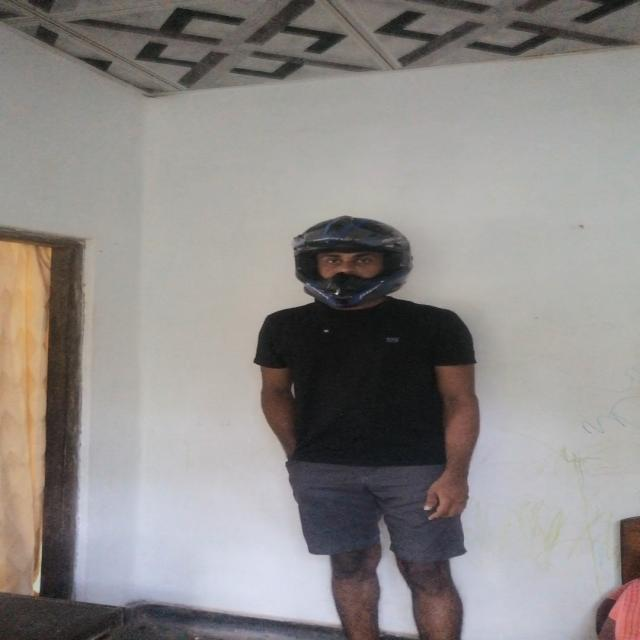Helmet_Wearer: (278, 219, 436, 313)
Person: (246, 217, 514, 640)
